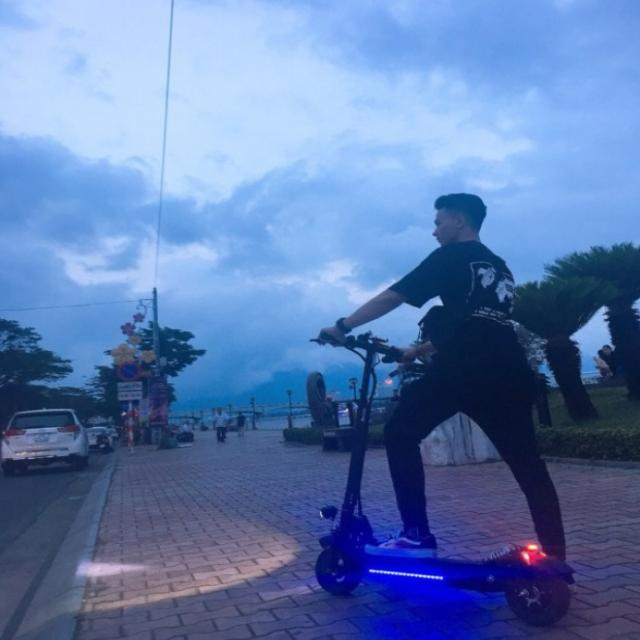non-helmet: (274, 161, 590, 622)
